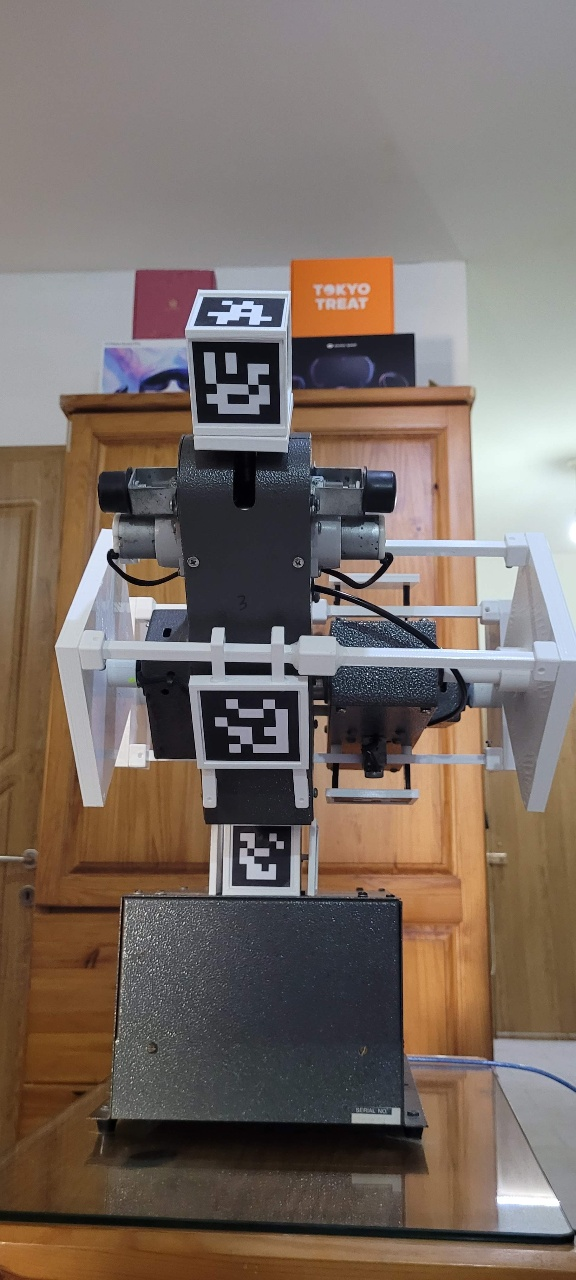Robot: (67, 223, 533, 998)
